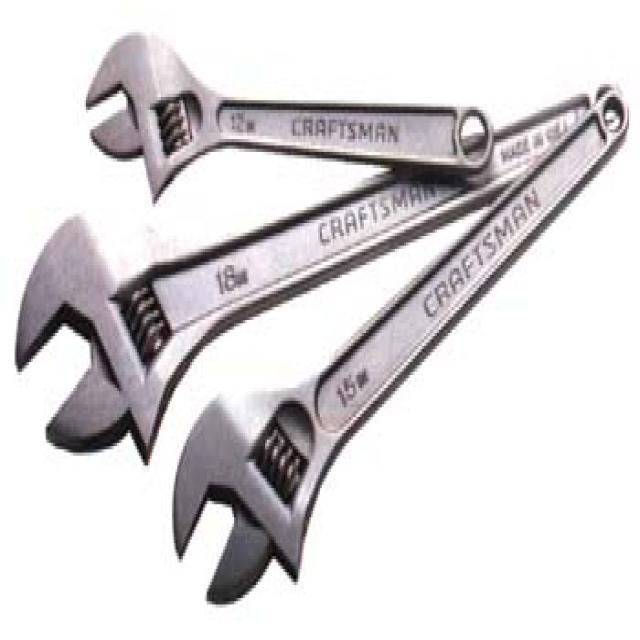wrench: (169, 293, 461, 612), (10, 196, 333, 454), (81, 24, 501, 207)
